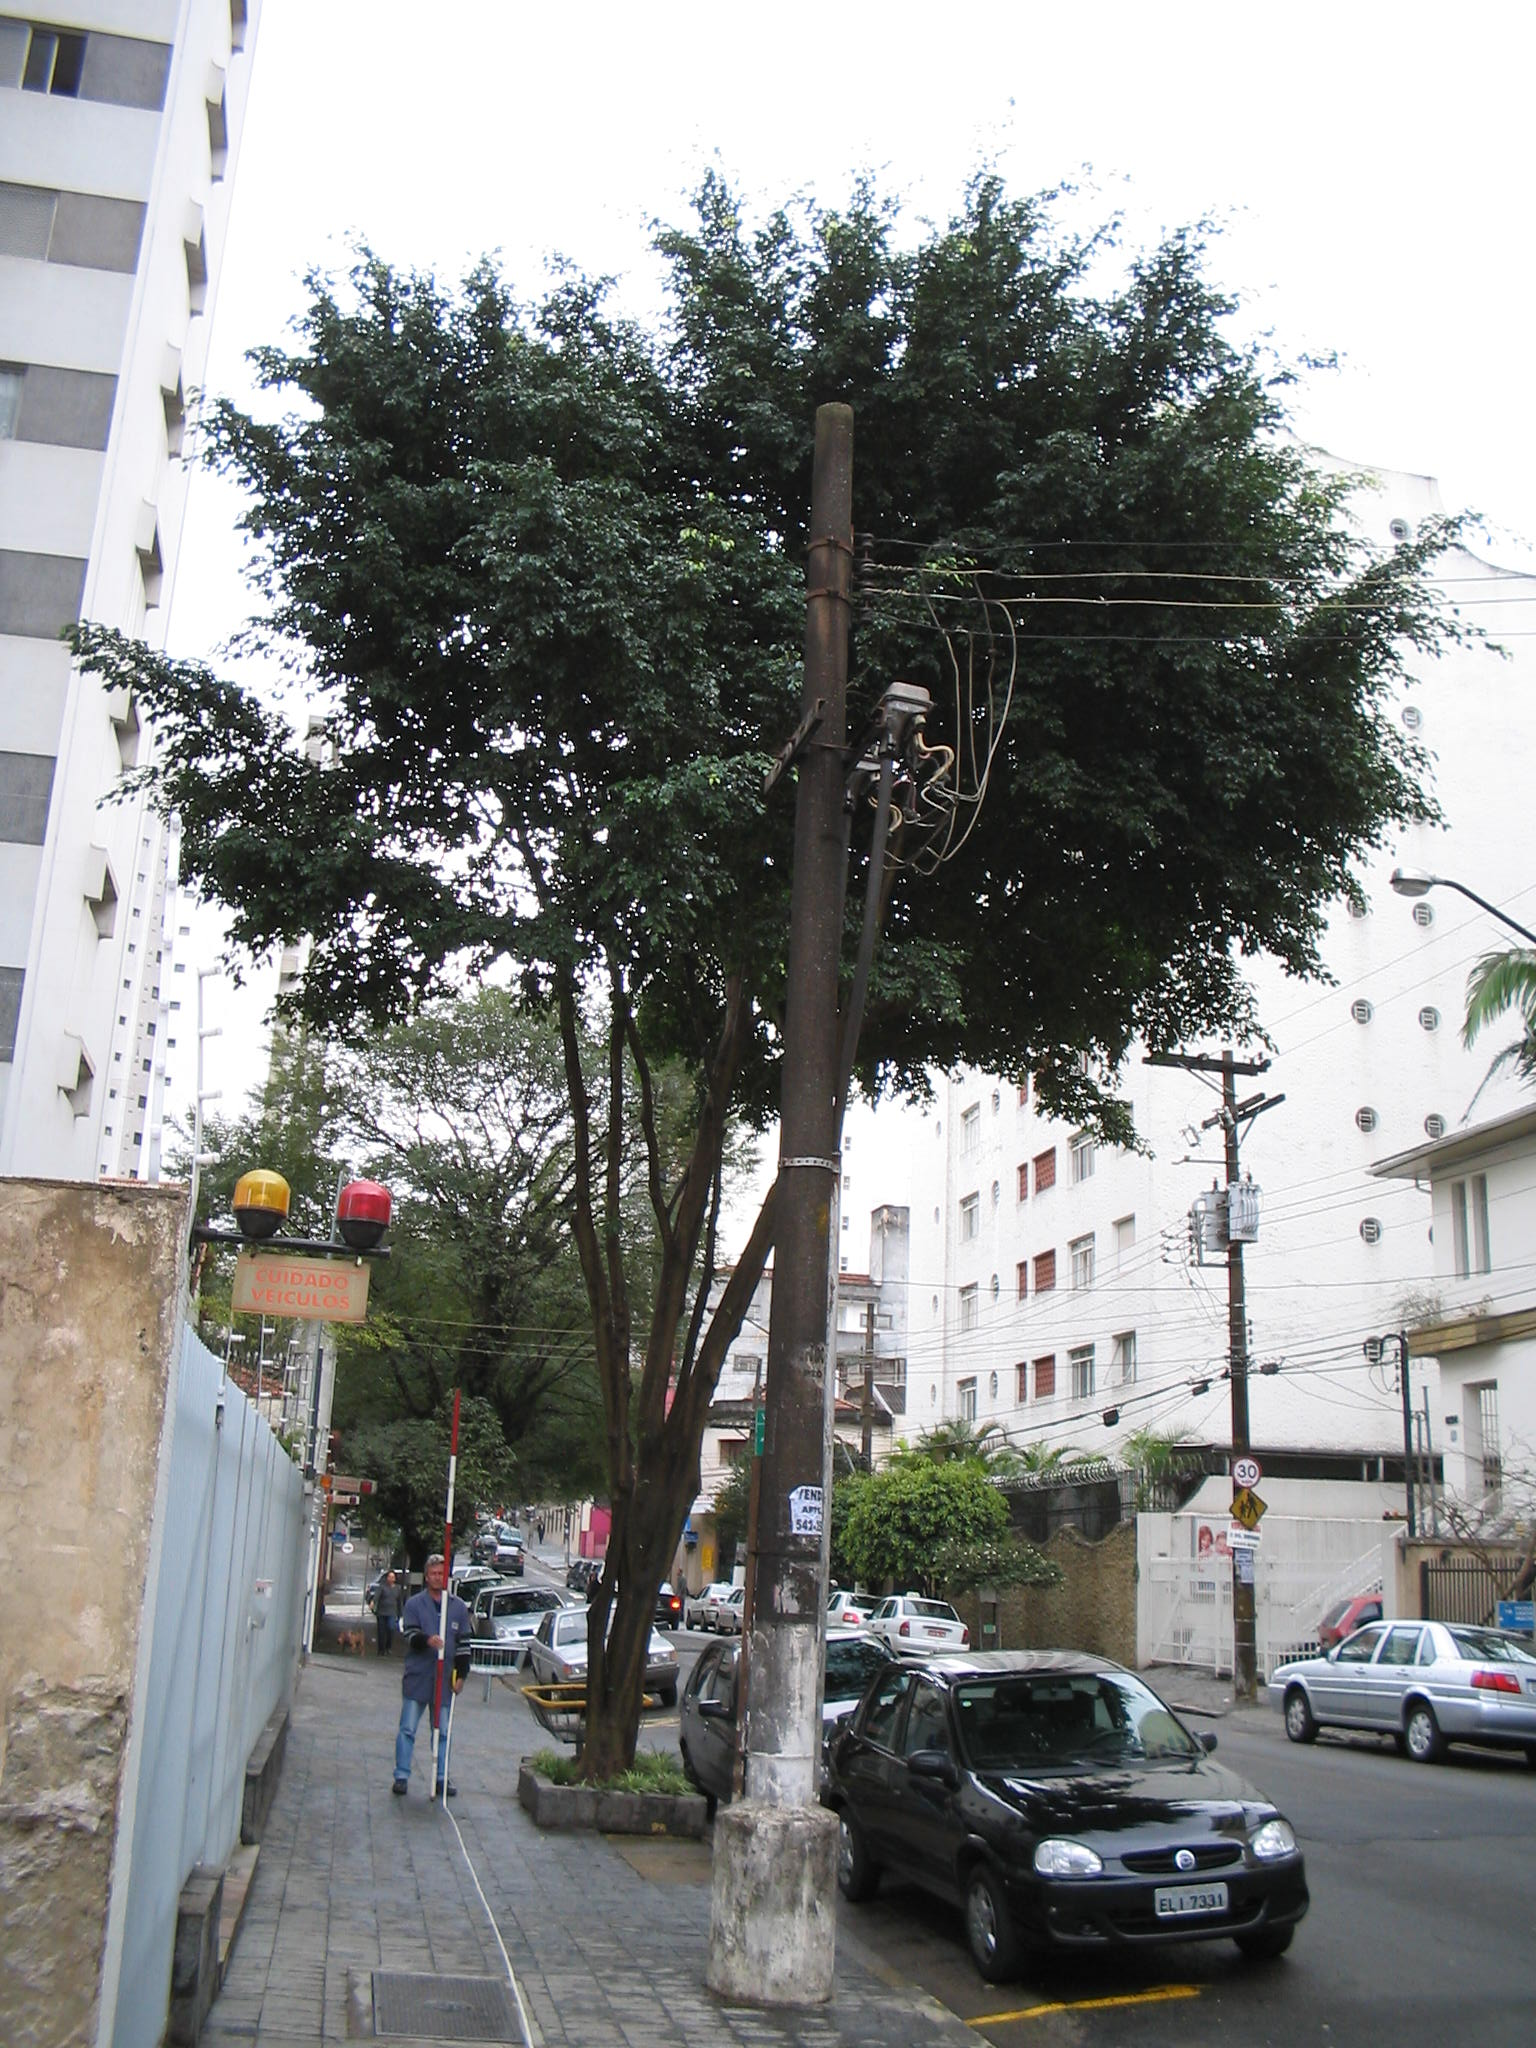crown: (81, 132, 1502, 1195)
stem: (560, 1429, 710, 1782)
stick: (416, 1390, 481, 1796)
tree: (69, 124, 1517, 1784)
